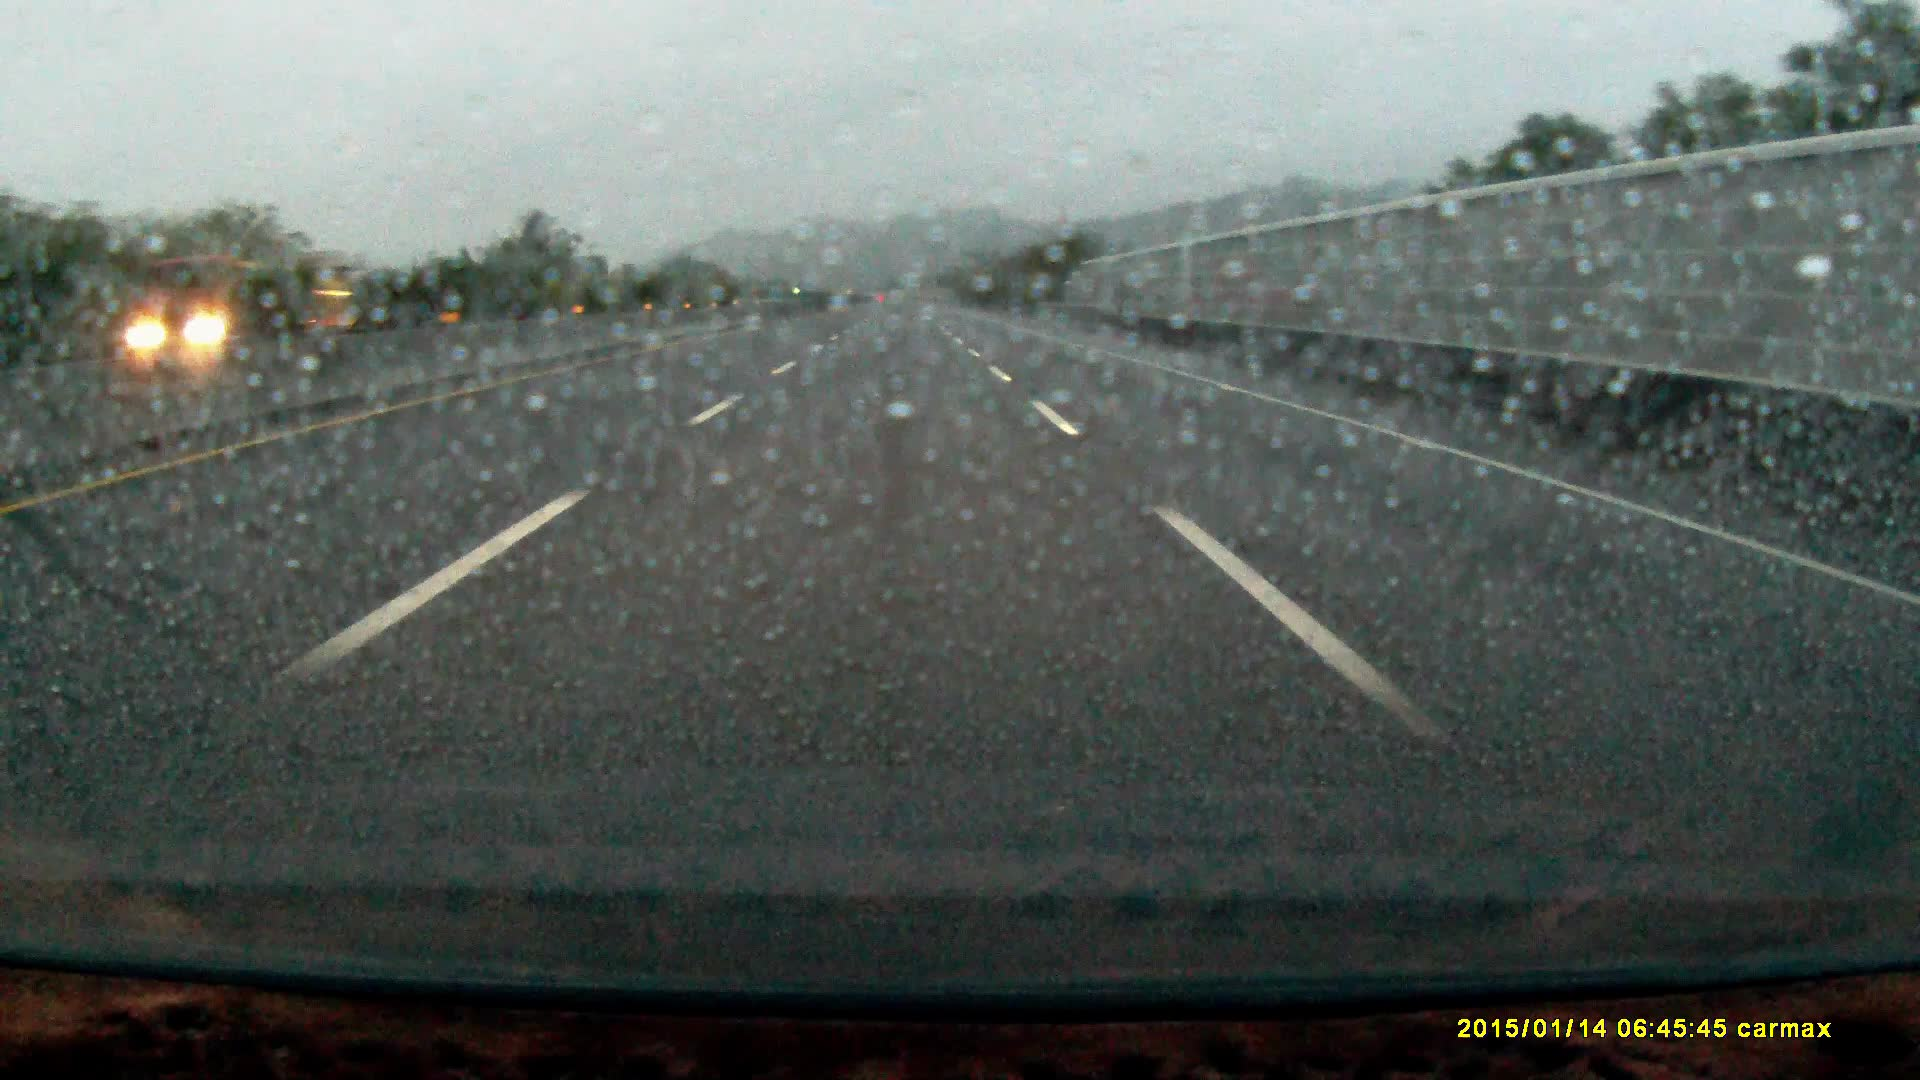vehicle: (116, 255, 349, 375)
